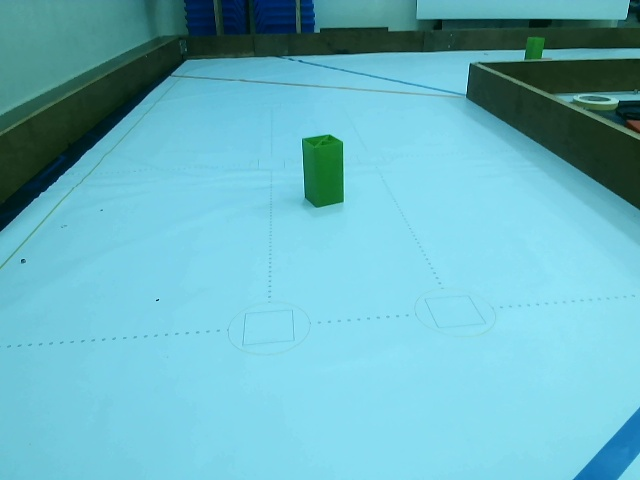green: (304, 140, 342, 204)
